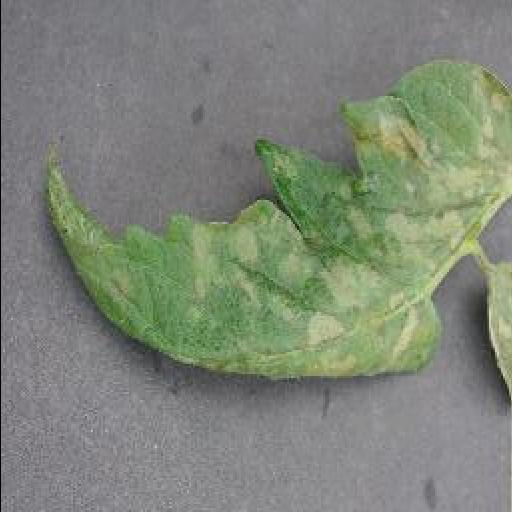disease_tomato: (40, 59, 512, 381)
